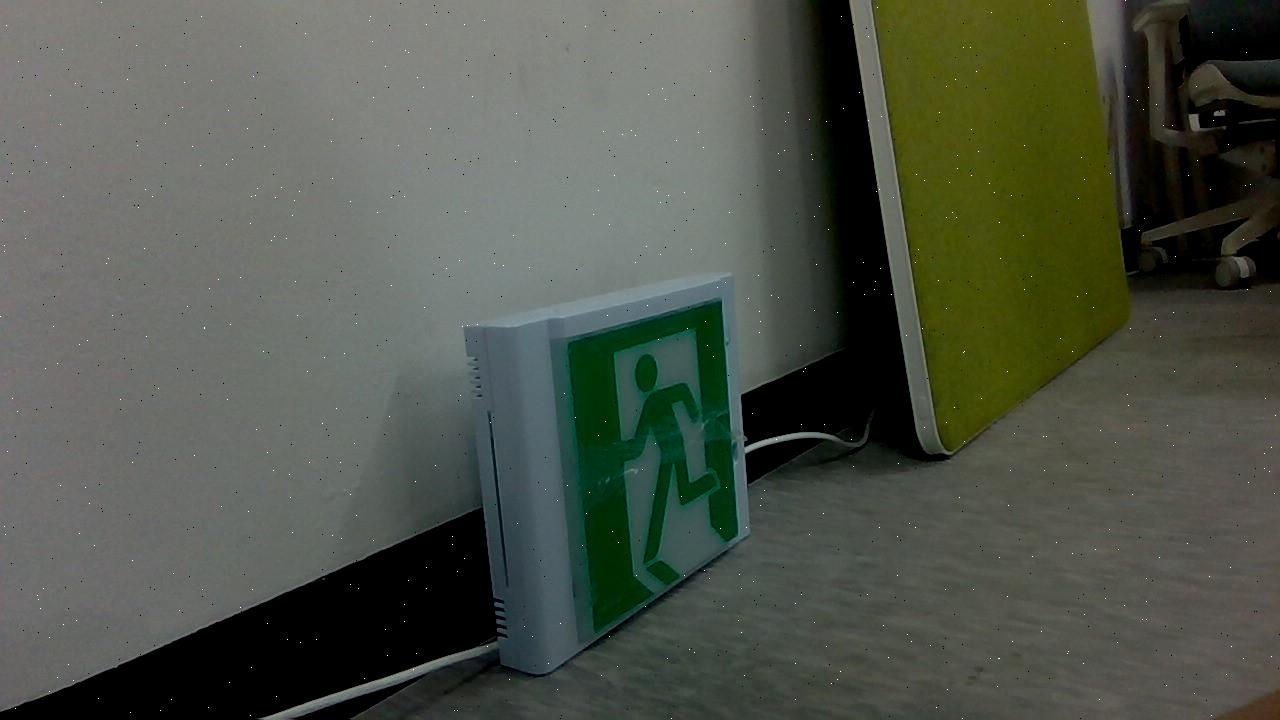emergency_exit: (846, 0, 1134, 461), (462, 271, 753, 676)
